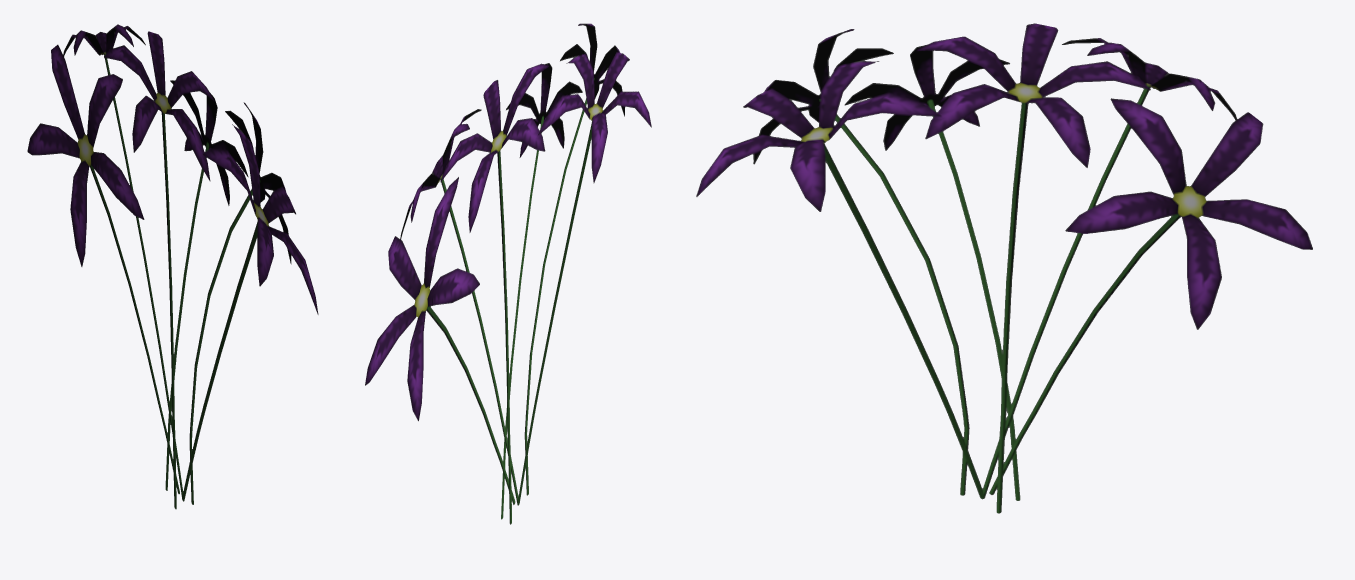
Rendered from flor4.fbx.
The picture shows the model from 3 angles, left to right: view 1: azimuth 30°, elevation 25°; view 2: azimuth 150°, elevation 25°; view 3: azimuth 270°, elevation 25°; orthographic projection. The views are drawn at different scales.
Visible parts, largest first — view 1: flor4; view 2: flor4; view 3: flor4.
Part boxes in pixels (left/top/right/bottom): flor4: left=27, top=24, right=318, bottom=509; flor4: left=365, top=23, right=651, bottom=524; flor4: left=696, top=23, right=1312, bottom=513.
Bounding box in the file's own units: 2.68e-15 × 9.6 × 10.33.
